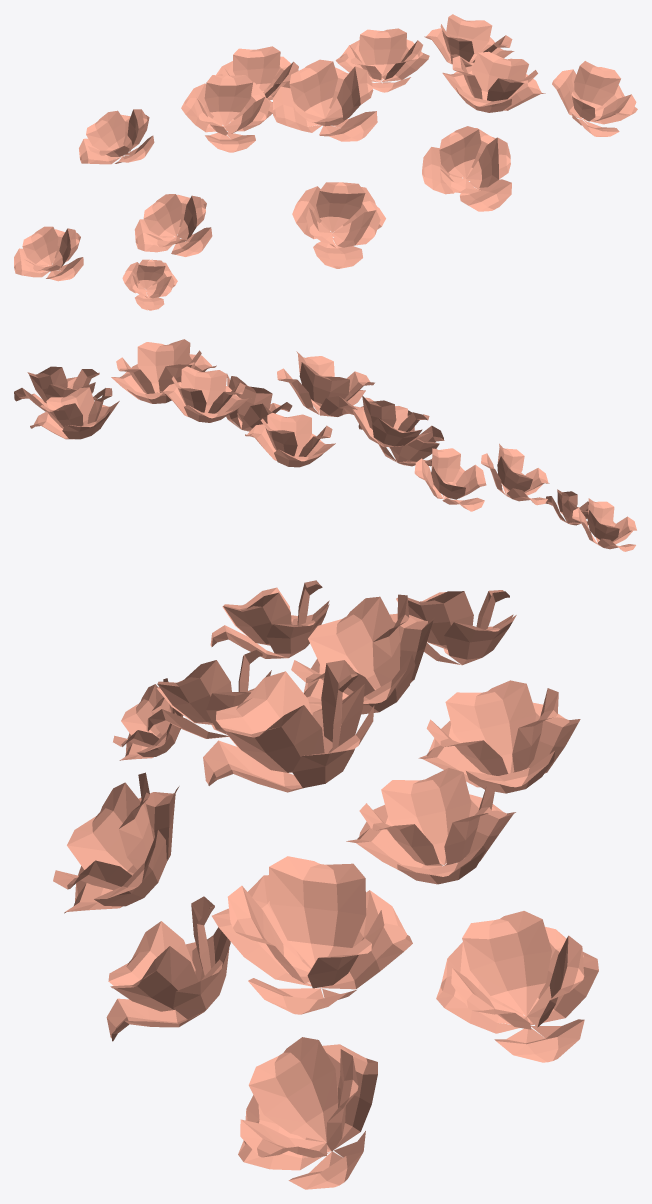
Rendered from 28_openskp_material_68.001.obj.
3 views of the same model, one above another, from view 1: azimuth 30°, elevation 25°; view 2: azimuth 150°, elevation 25°; view 3: azimuth 270°, elevation 25° (orthographic). The views are drawn at different scales.
Visible parts, largest first — view 1: 28_openskp_material_68.001; view 2: 28_openskp_material_68.001; view 3: 28_openskp_material_68.001.
Part boxes in pixels (x1=…): 28_openskp_material_68.001: x1=14, y1=14, x2=637, y2=310; 28_openskp_material_68.001: x1=14, y1=339, x2=636, y2=551; 28_openskp_material_68.001: x1=53, y1=580, x2=598, y2=1189.
Bounding box in the file's own units: 13.82 × 3.22 × 5.39.
